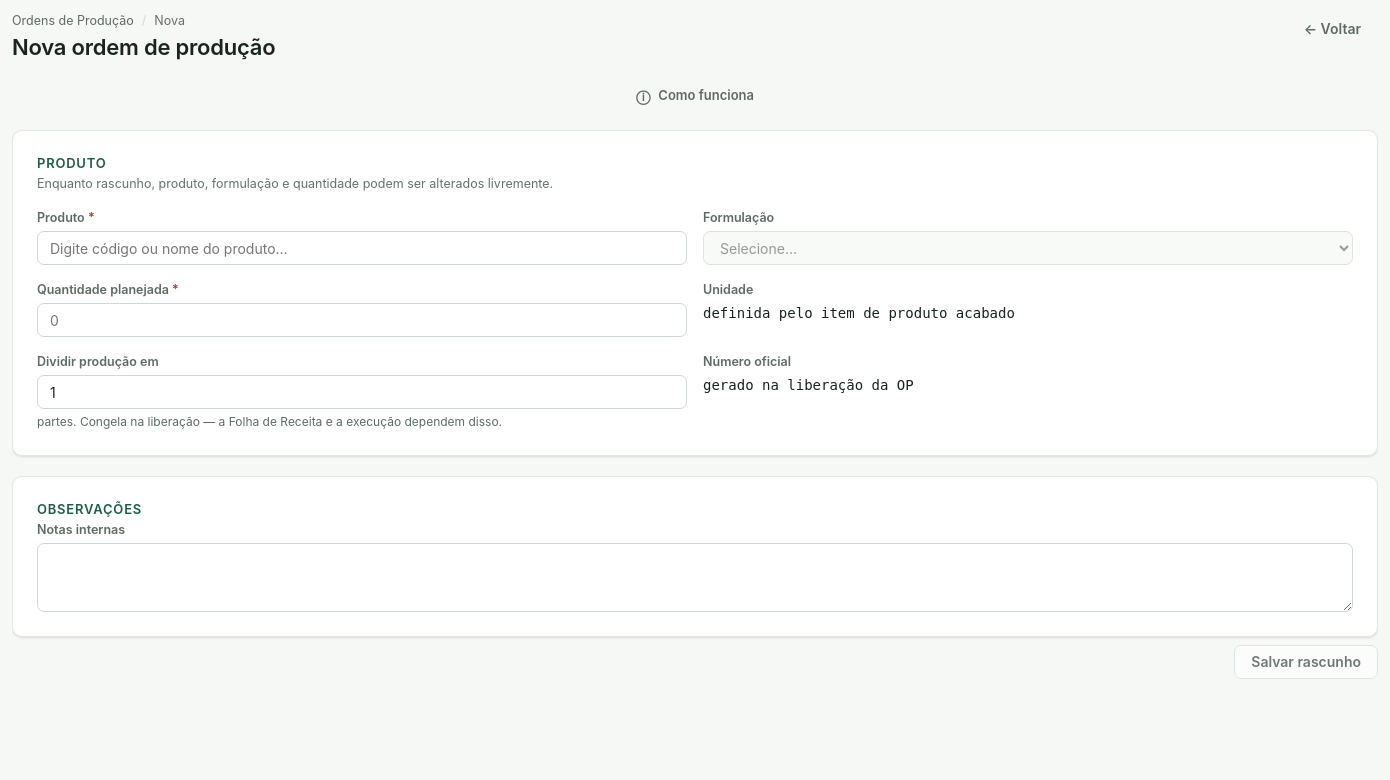
Ordem de Produção — produto fora da primeira página › a busca vai ao servidor com os mesmos filtros da carga inicial e o achado aparece
Type "Beta" into the dropdown labelled "Produto *". click: (362, 248)
box: [37,231,687,265]
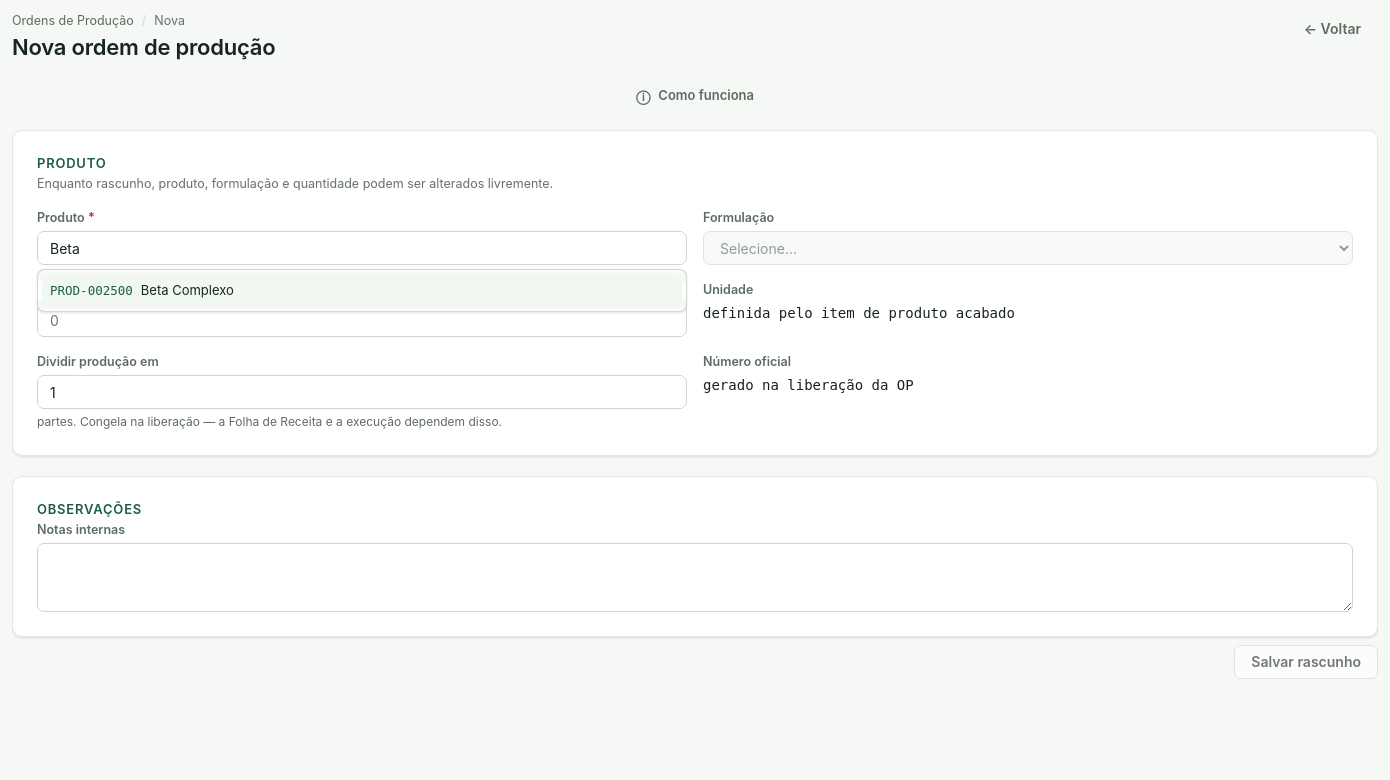
Expected: the option "PROD-002500 Beta Complexo" is shown, [42,274,682,307]
